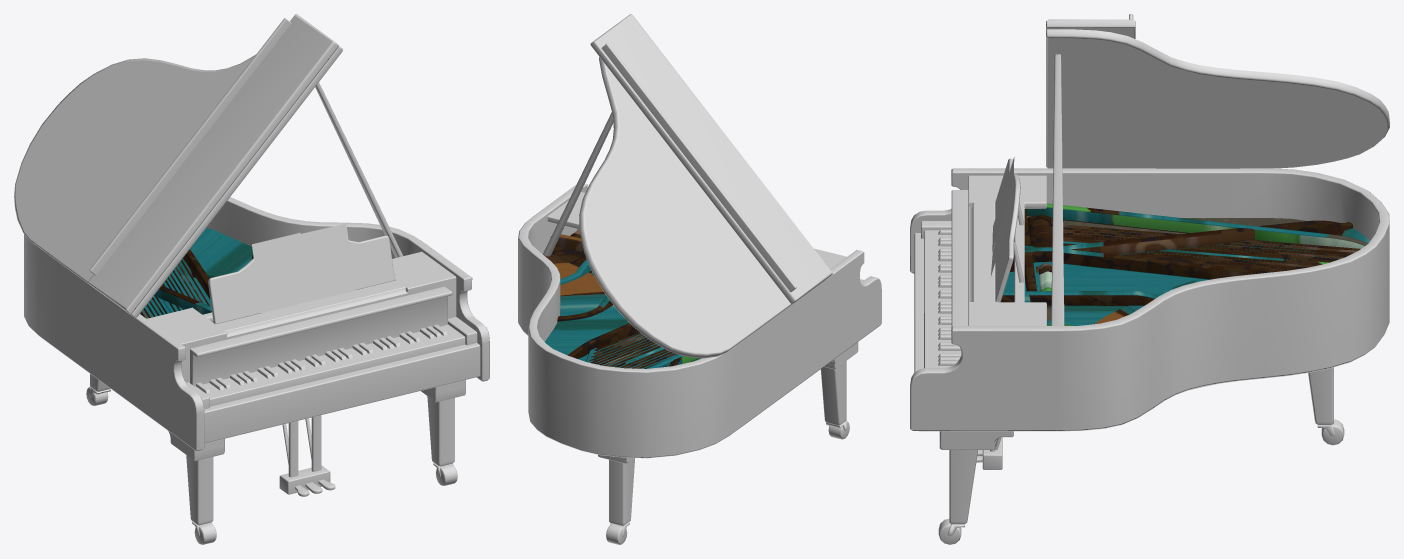
The model's file is pianoforte.fbx.
3 views of the same model, side by side, from view 1: azimuth 30°, elevation 25°; view 2: azimuth 150°, elevation 25°; view 3: azimuth 270°, elevation 25° (orthographic). The views are drawn at different scales.
Parts seen in each view (by area): view 1: body__mReBody, bars_in__mBody; view 2: body__mReBody, bars_in__mBody; view 3: body__mReBody, bars_in__mBody.
Boxes of the visible parts, <box> form: body__mReBody: <box>14,14,489,544</box>; bars_in__mBody: <box>140,227,253,322</box>; body__mReBody: <box>518,14,881,544</box>; bars_in__mBody: <box>544,231,701,368</box>; body__mReBody: <box>910,14,1389,544</box>; bars_in__mBody: <box>1001,203,1369,325</box>.
Size of the model in its own units: 985 by 1323 by 1190.
